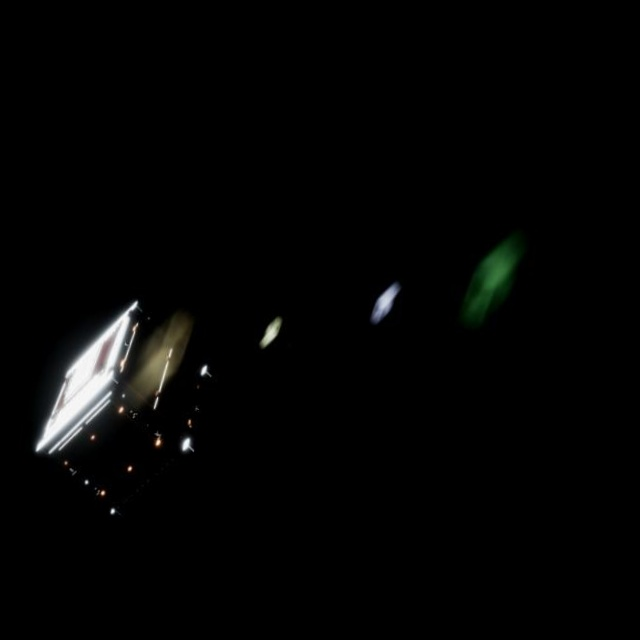satellite: (26, 296, 214, 526)
